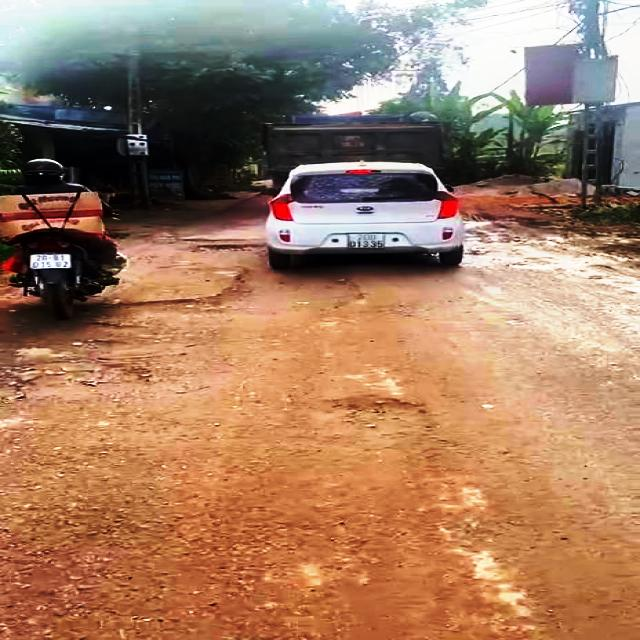pothole: (114, 284, 363, 316), (12, 353, 186, 394), (338, 389, 430, 435), (188, 242, 268, 256)
